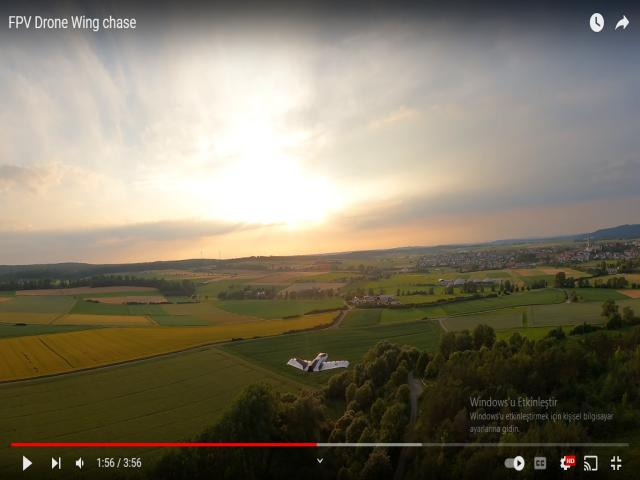plane: (287, 353, 349, 375)
